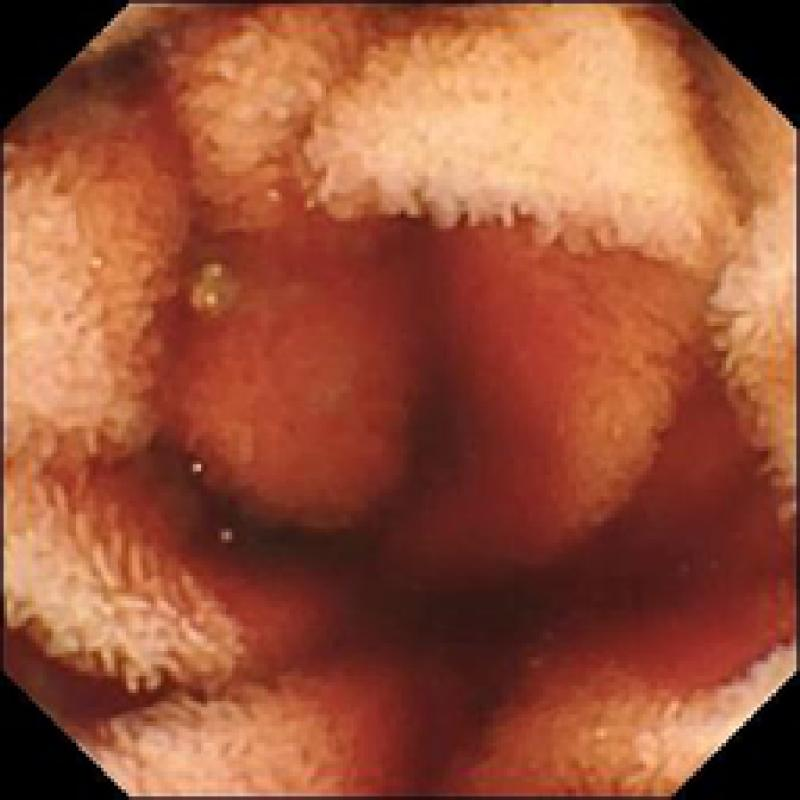bleeding: (25, 282, 786, 800)
